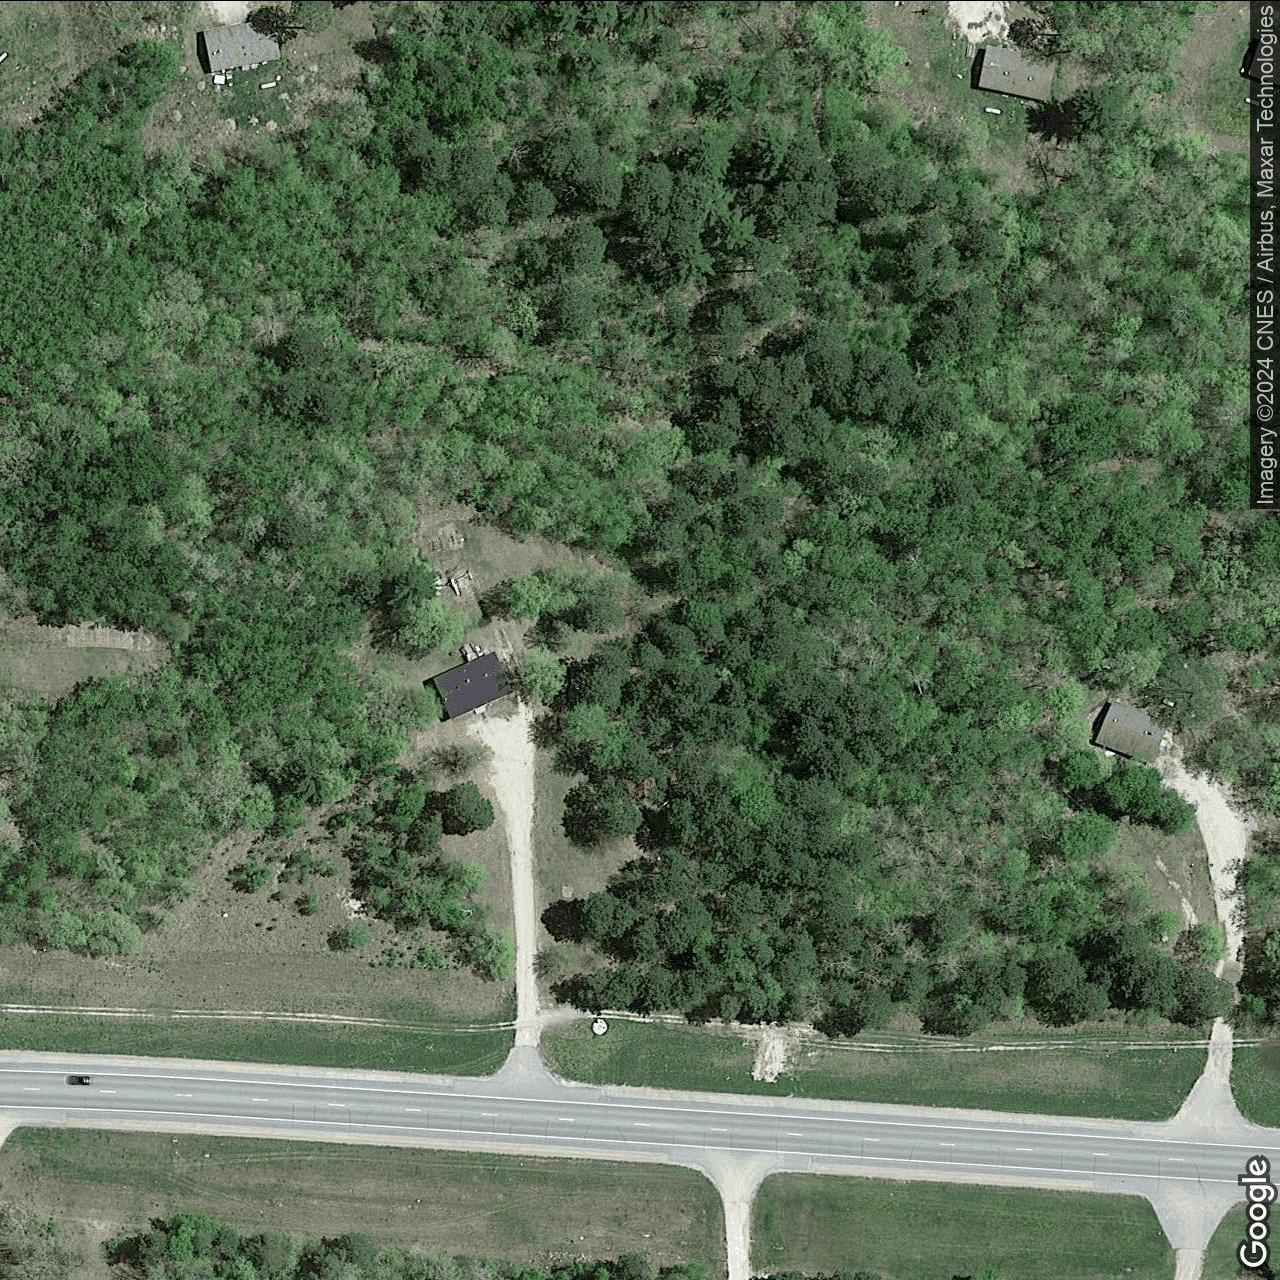House: (430, 648, 516, 721), (1092, 696, 1170, 767), (978, 42, 1058, 103), (202, 13, 284, 73)
Propane: (1159, 694, 1179, 709), (258, 79, 280, 90), (981, 107, 1003, 116), (0, 47, 11, 64)
